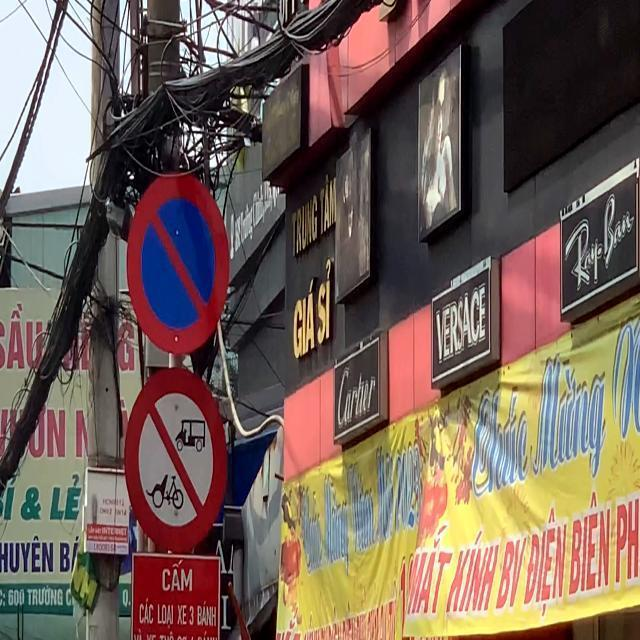131a-cam-do-xe: (125, 170, 233, 346)
